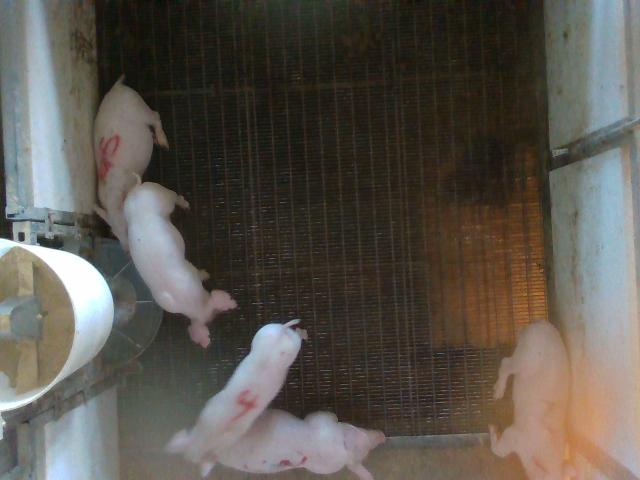pig-2: (490, 321, 570, 479)
pig-3: (216, 409, 385, 479)
pig-4: (168, 319, 302, 462)
pig-5: (94, 75, 169, 251)
